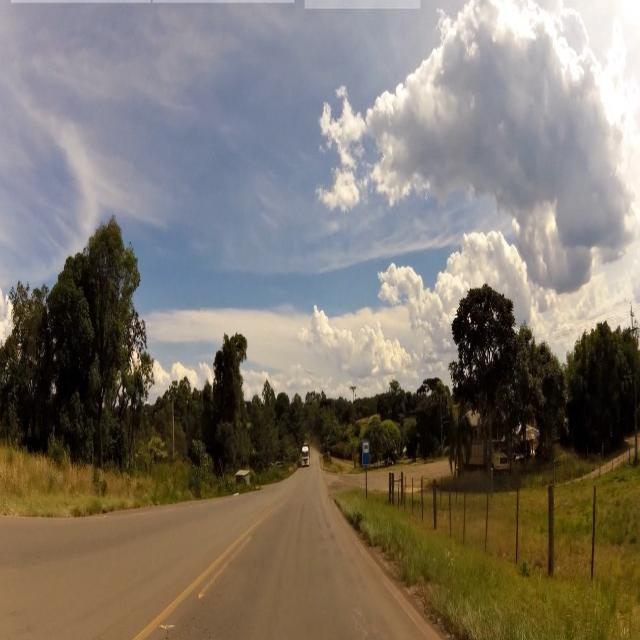S-14: (362, 439, 371, 470)
